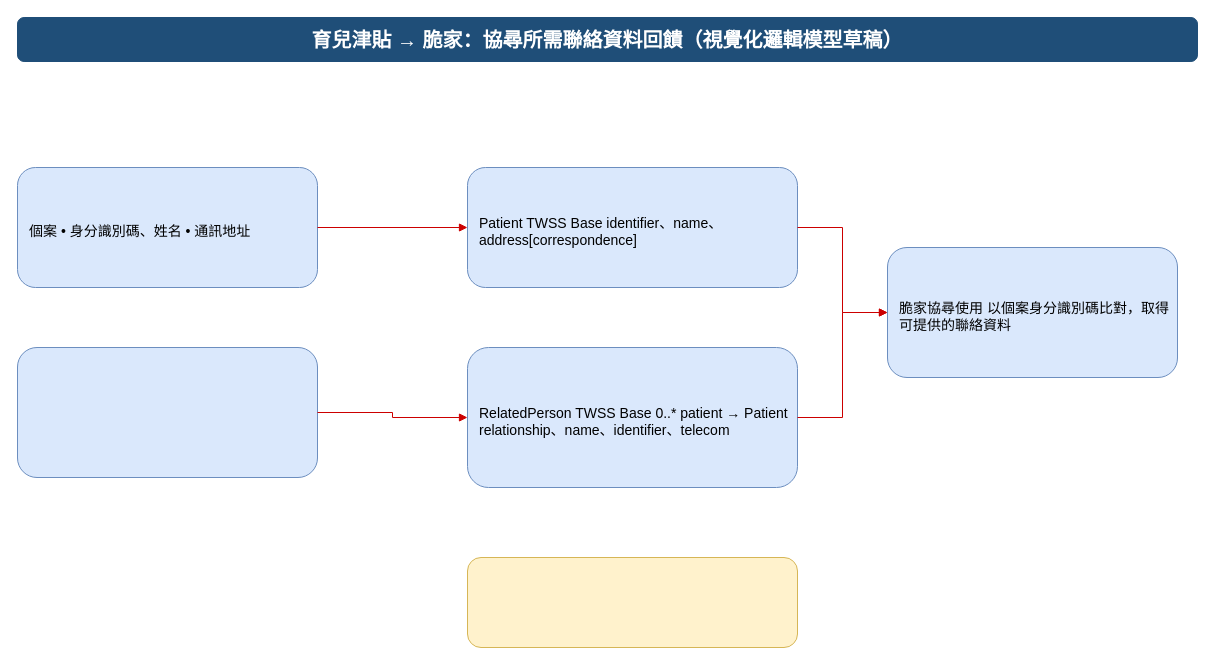
The diagram is 1215 pixels wide and 665 high, and some of its shapes have lost their labels. The centre of each missing label's shape, as x and y in pixels:
"個案關係人 0..* • 姓名、身分識別碼、聯絡方式 • 與個案關係" belongs at [167,412].
"待業務確認 是否需要同步交換 Claim／ClaimResponse，或僅提供聯絡資料" belongs at [632,602].
